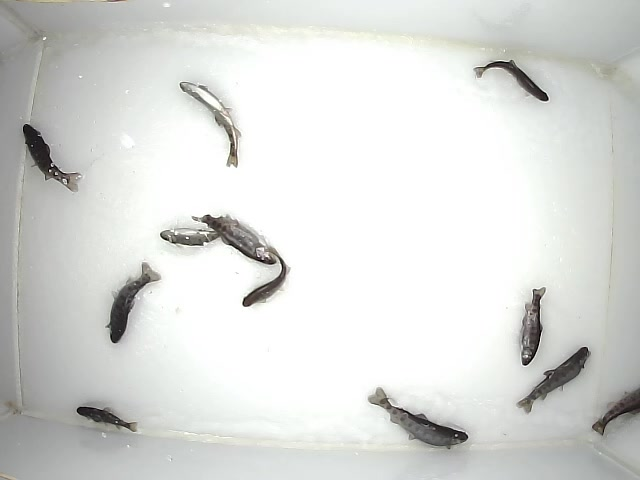fish: (366, 386, 470, 451), (179, 80, 241, 169), (516, 344, 592, 416), (104, 262, 163, 345), (18, 121, 82, 193), (472, 60, 549, 102), (517, 282, 546, 367), (590, 387, 640, 436), (75, 405, 139, 435)
